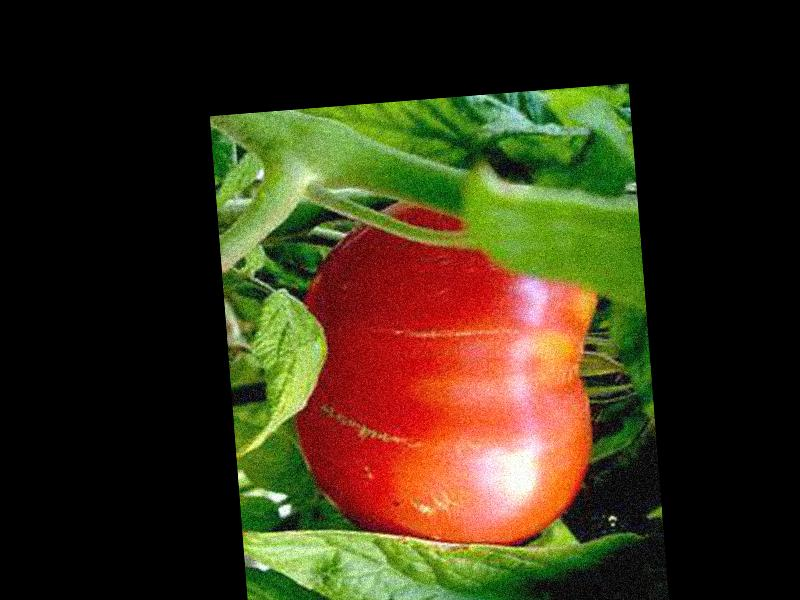Tomato: (280, 188, 617, 564)
